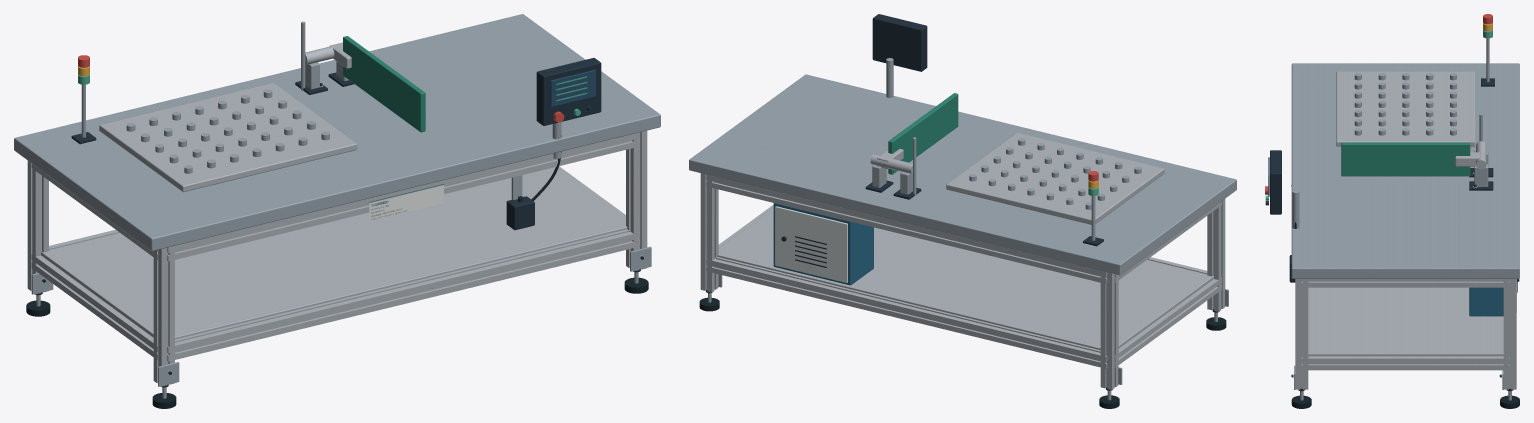
File: ball-transfer-cell.glb
3 renders of one model, left to right at view 1: azimuth 30°, elevation 25°; view 2: azimuth 150°, elevation 25°; view 3: azimuth 270°, elevation 25°, orthographic. The views are drawn at different scales.
Parts seen in each view (by area): view 1: ClosedMachineBed_40, LowerShelf_41, BallDeck_71, SlottedExtrusion_34, SlottedExtrusion_35, PushFace_107, SlottedExtrusion_11, SlottedExtrusion_36, SlottedExtrusion_27, ConsoleBack_52, SlottedExtrusion_3, OriginalNameplate_65 (+3 smaller); view 2: ClosedMachineBed_40, LowerShelf_41, BallDeck_71, SlottedExtrusion_32, SlottedExtrusion_33, BackDoor_43, ConsoleBack_52, PushFace_107, SlottedExtrusion_3, SlottedExtrusion_19, Cabinet_42, SlottedExtrusion_36 (+2 smaller); view 3: ClosedMachineBed_40, LowerShelf_41, BallDeck_71, PushFace_107, SlottedExtrusion_38, SlottedExtrusion_39, SlottedExtrusion_27, SlottedExtrusion_19, Cabinet_42, ConsoleBack_52, RodClevisCrossbar_108, ConsoleBracket_51 (+2 smaller).
Part boxes in pixels (x1,y1,x2,y2): ClosedMachineBed_40: (14, 14, 660, 251); LowerShelf_41: (41, 167, 627, 339); BallDeck_71: (99, 82, 357, 192); SlottedExtrusion_34: (167, 229, 640, 361); SlottedExtrusion_35: (167, 132, 640, 261); PushFace_107: (343, 36, 425, 132); SlottedExtrusion_11: (153, 246, 174, 386); SlottedExtrusion_36: (31, 254, 158, 360); SlottedExtrusion_27: (626, 130, 647, 271); ConsoleBack_52: (536, 58, 601, 125); SlottedExtrusion_3: (27, 160, 48, 294); OriginalNameplate_65: (369, 184, 443, 221); ClosedMachineBed_40: (689, 74, 1236, 275); LowerShelf_41: (717, 208, 1213, 350); BallDeck_71: (946, 132, 1164, 224); SlottedExtrusion_32: (706, 257, 1107, 368); SlottedExtrusion_33: (706, 174, 1107, 283); BackDoor_43: (775, 206, 847, 282); ConsoleBack_52: (872, 14, 927, 71); PushFace_107: (888, 93, 958, 174); SlottedExtrusion_3: (1100, 271, 1118, 389); SlottedExtrusion_19: (700, 173, 718, 292); Cabinet_42: (773, 203, 873, 285); SlottedExtrusion_36: (1114, 277, 1221, 367); ClosedMachineBed_40: (1291, 63, 1519, 278); LowerShelf_41: (1308, 287, 1503, 356); BallDeck_71: (1336, 71, 1475, 146); PushFace_107: (1341, 142, 1470, 176); SlottedExtrusion_38: (1301, 356, 1509, 370); SlottedExtrusion_39: (1301, 279, 1509, 287); SlottedExtrusion_27: (1295, 279, 1308, 389); SlottedExtrusion_19: (1503, 279, 1516, 389); Cabinet_42: (1469, 287, 1503, 316); ConsoleBack_52: (1270, 150, 1281, 214); RodClevisCrossbar_108: (1455, 152, 1485, 166); ConsoleBracket_51: (1292, 190, 1299, 228).
Bounding box in the file's own units: 2.45 × 1.18 × 1.29.
12 materials, 3 textured.
